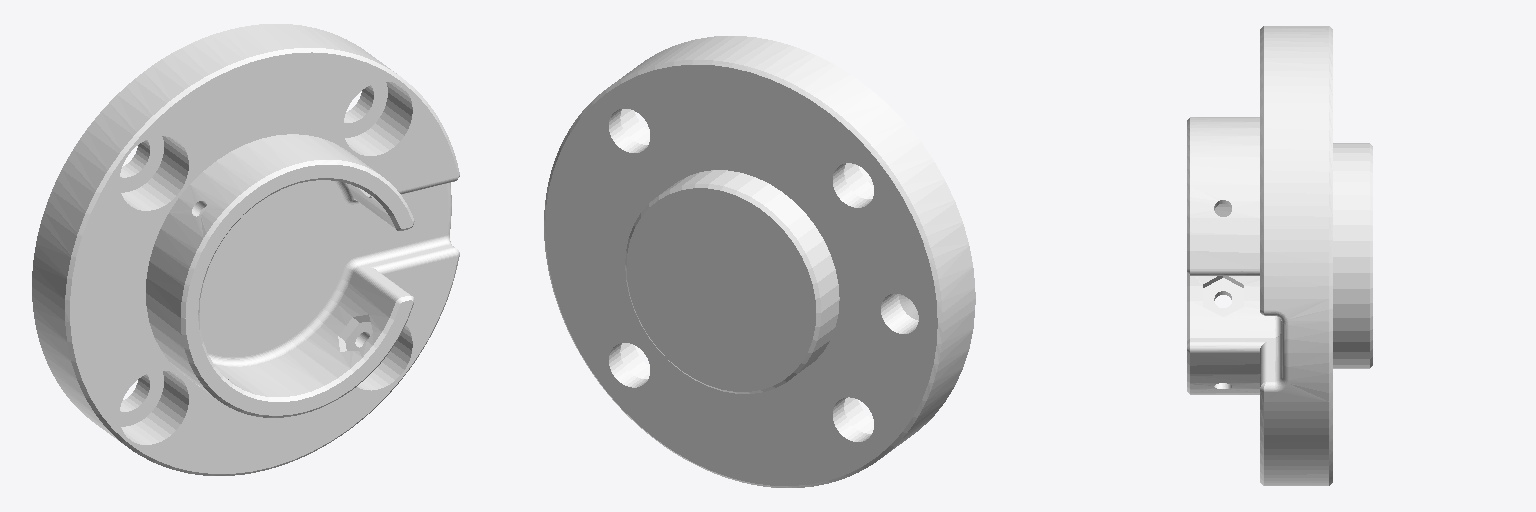
The model's file is connector.obj.
3 renders of one model, left to right at view 1: azimuth 30°, elevation 25°; view 2: azimuth 150°, elevation 25°; view 3: azimuth 270°, elevation 25°, orthographic.
Parts seen in each view (by area): view 1: connector; view 2: connector; view 3: connector.
Part boxes in pixels (left/top/right/bottom): connector: left=32, top=24, right=459, bottom=475; connector: left=544, top=36, right=975, bottom=487; connector: left=1187, top=26, right=1372, bottom=485.
Bounding box in the file's own units: 0.063 × 0.063 × 0.0255.